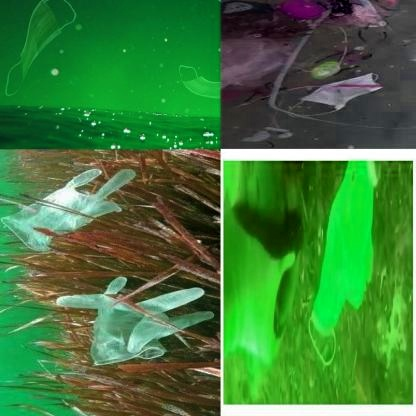Mask: (309, 162, 377, 368), (274, 72, 394, 118)
glove: (51, 276, 220, 372), (1, 162, 135, 255)
